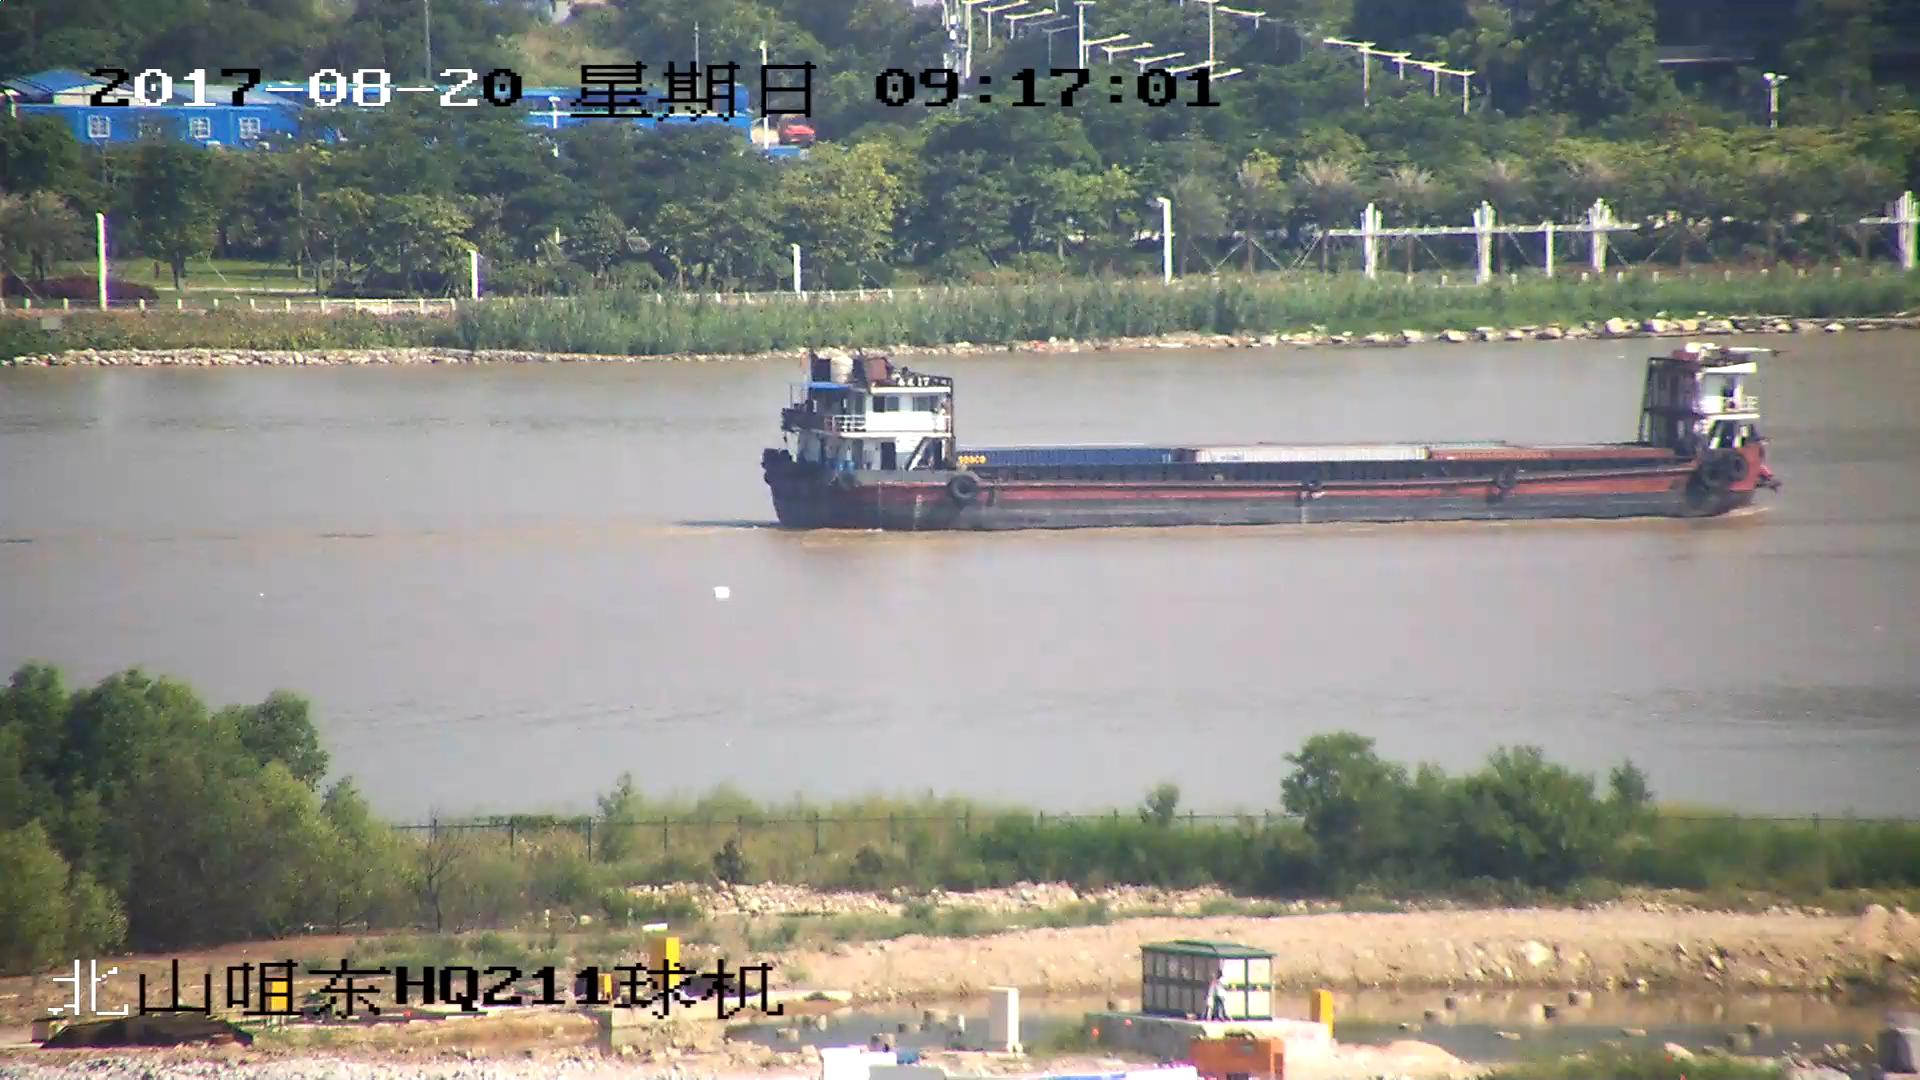general cargo ship: (764, 343, 1781, 532)
